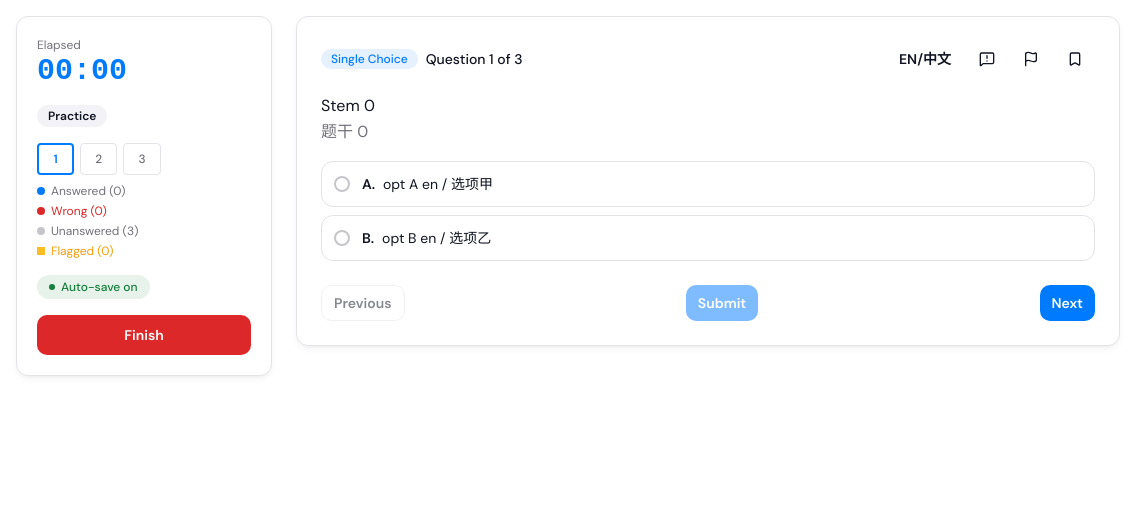
Scenario: <PaperPlayer> practice flow › submitting a wrong answer marks the cell wrong and shows feedback
Click the button "B.opt B en / 选项乙" at (437, 238), box [321, 215, 1095, 261]
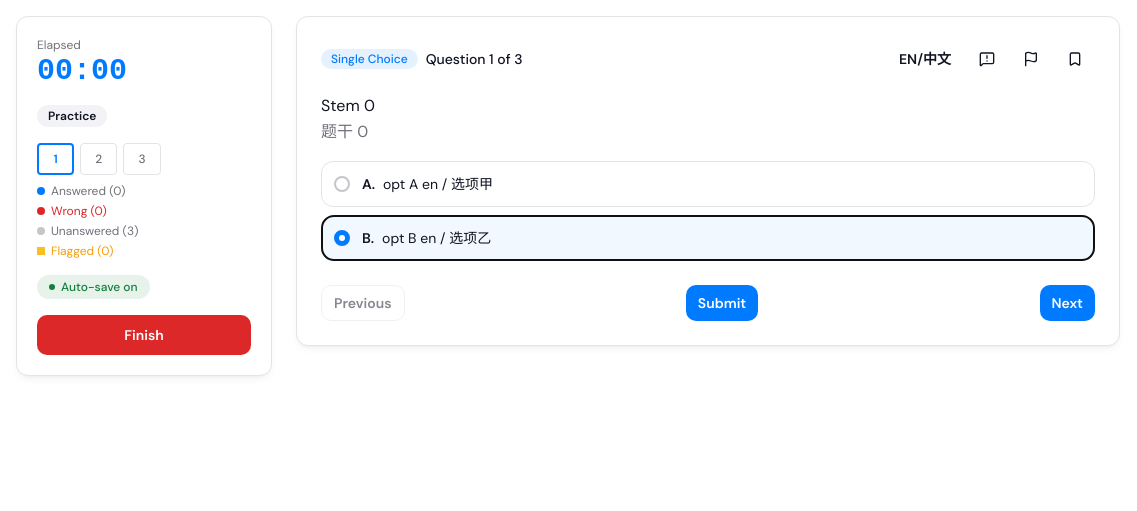
Click the button "Submit" at (722, 303), box [686, 285, 758, 321]
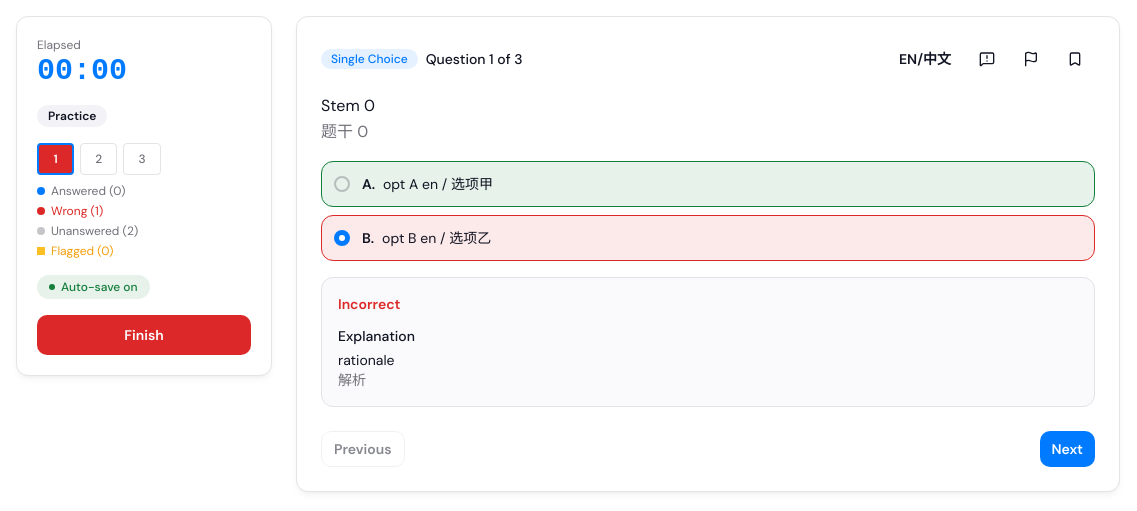
Now the text "Incorrect" is shown, box [338, 295, 400, 313]
Now the button named "question 1 wrong" is shown, box [37, 143, 74, 175]
